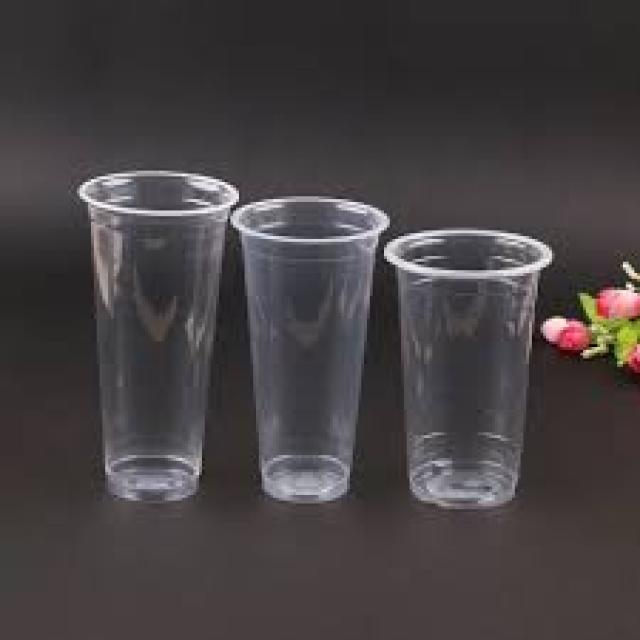plastic: (79, 172, 239, 501), (231, 200, 389, 502), (385, 230, 552, 508)
